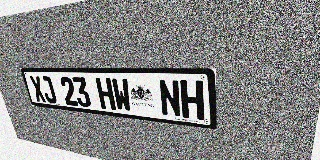2: (59, 77, 78, 106)
3: (72, 77, 92, 108)
H: (180, 80, 204, 120), (95, 78, 116, 110)
J: (39, 76, 58, 104)
N: (158, 79, 182, 118)
W: (111, 78, 132, 112)
X: (29, 76, 47, 103)
